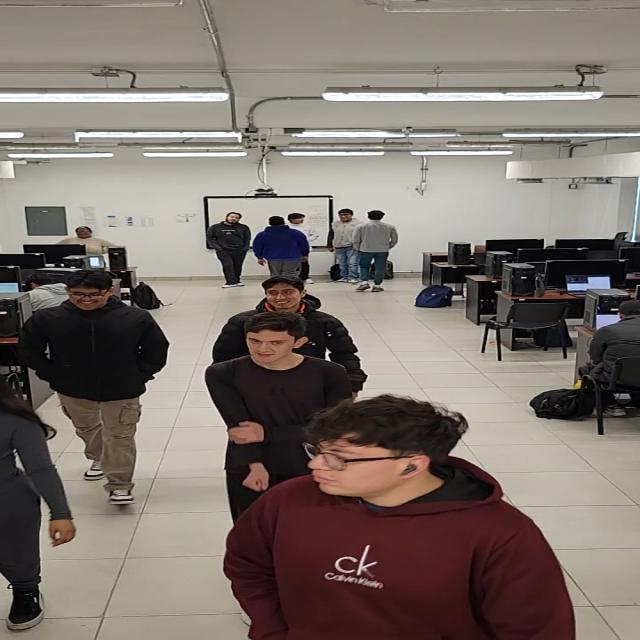Persona: (270, 401, 562, 635), (31, 273, 155, 502), (224, 324, 352, 414), (239, 277, 335, 326), (252, 215, 306, 283), (205, 212, 249, 286), (360, 210, 391, 288), (58, 221, 119, 257), (334, 208, 361, 284)
